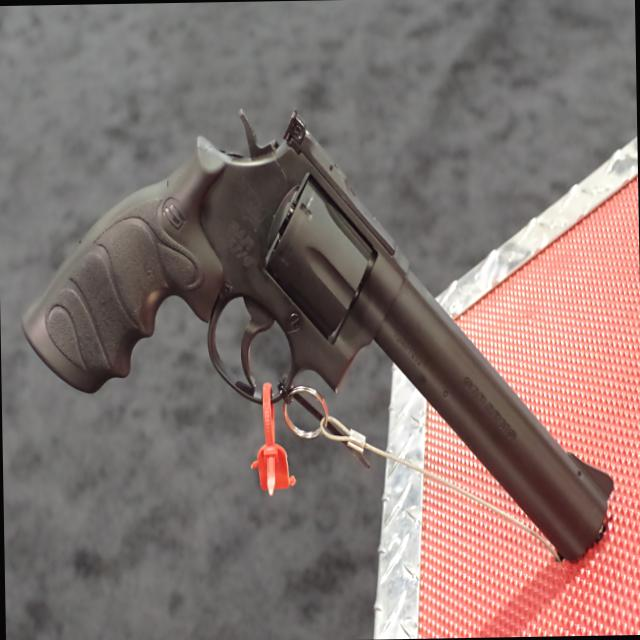handgun: (18, 96, 606, 578)
